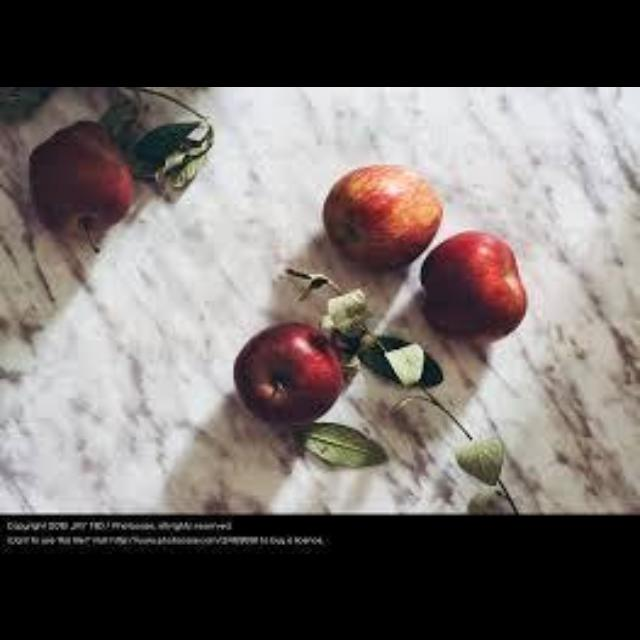apple: (29, 120, 134, 249), (321, 164, 440, 269), (421, 230, 526, 337), (234, 322, 343, 424)
